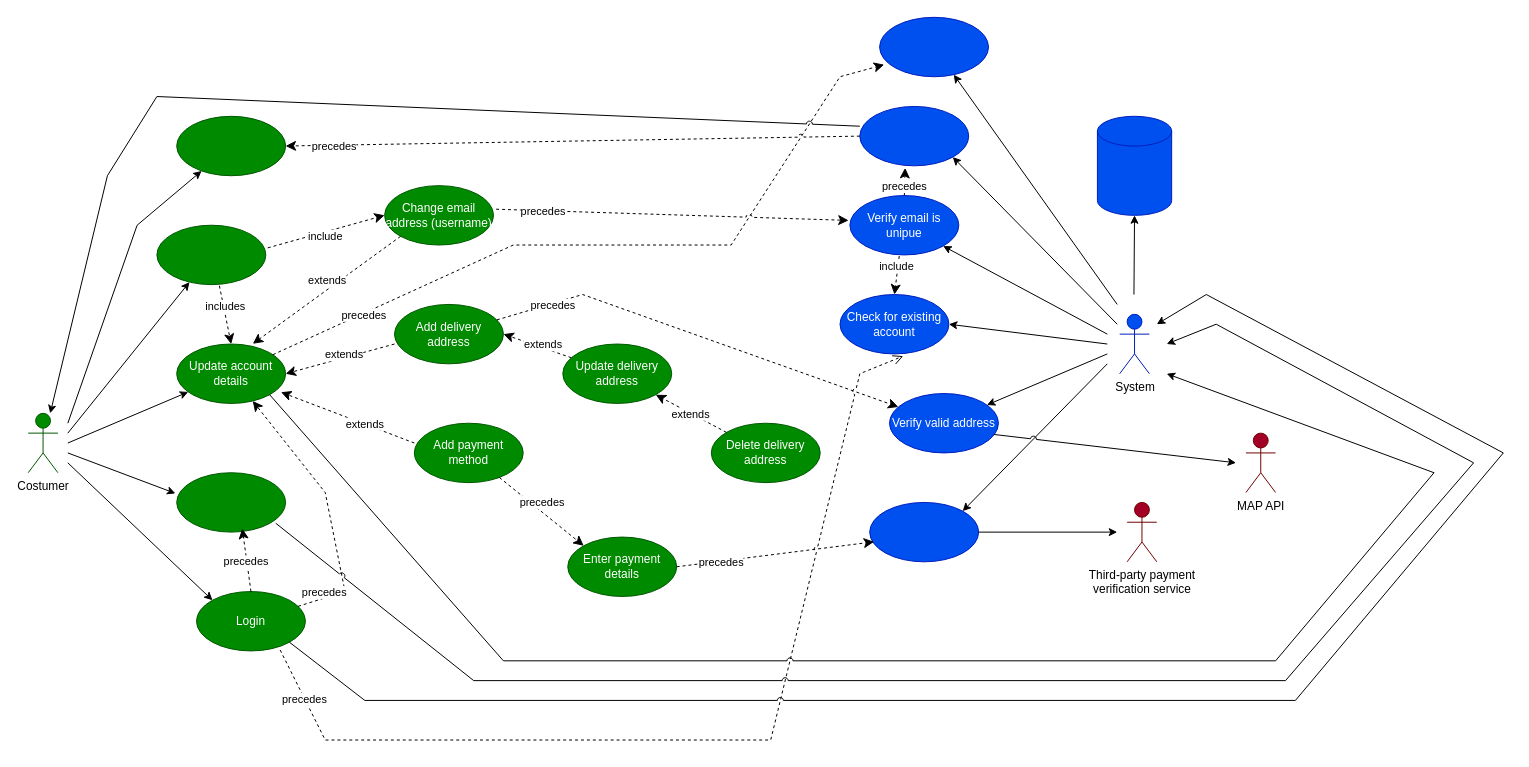
Some shapes in this 1529 by 767 pixel diagram are drawn without their labels. Each missing label, with the box of its shape:
Confirm email address: (176, 115, 286, 176)
Costumer database: (1096, 115, 1172, 215)
Register: (156, 224, 266, 285)
Send confirmation link via email: (859, 105, 969, 166)
Update costumer database: (879, 16, 989, 77)
Verify credit card details: (869, 501, 979, 562)
View account: (176, 472, 286, 532)
